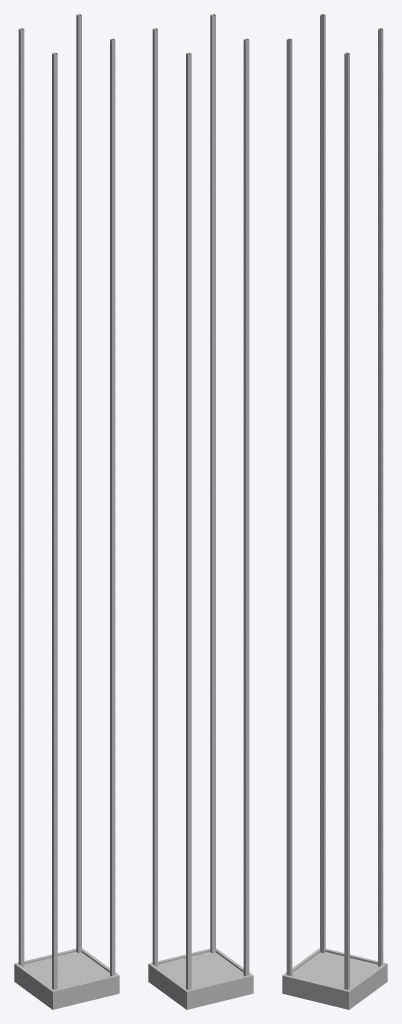
The model's file is SM_square_ceiling_lamp_a.fbx.
3 views of the same model, side by side, from view 1: azimuth 30°, elevation 25°; view 2: azimuth 210°, elevation 25°; view 3: azimuth 330°, elevation 25° (orthographic).
Parts seen in each view (by area): view 1: pCube162; view 2: pCube162; view 3: pCube162.
Part boxes in pixels (box(x1,y1,x2,y2)): pCube162: box(14, 14, 119, 1009); pCube162: box(148, 14, 253, 1009); pCube162: box(282, 14, 387, 1009).
Bounding box in the file's own units: 1 × 13.6 × 1.
